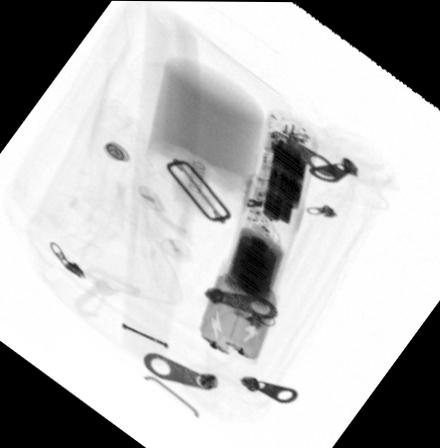Baton: (194, 108, 320, 363)
